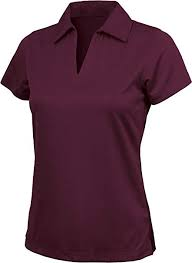C_polo shirt: (1, 6, 183, 263)
